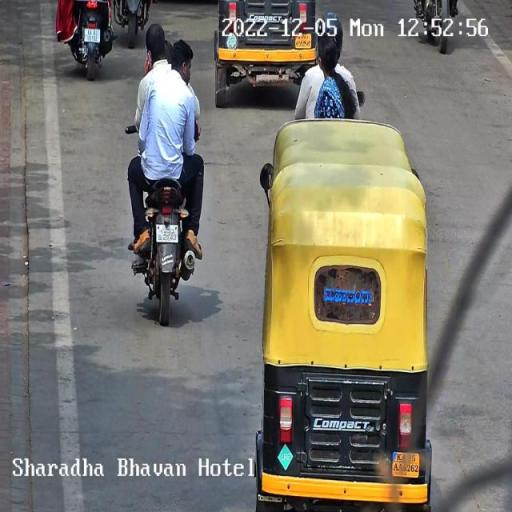tripple riding: (123, 22, 213, 176)
